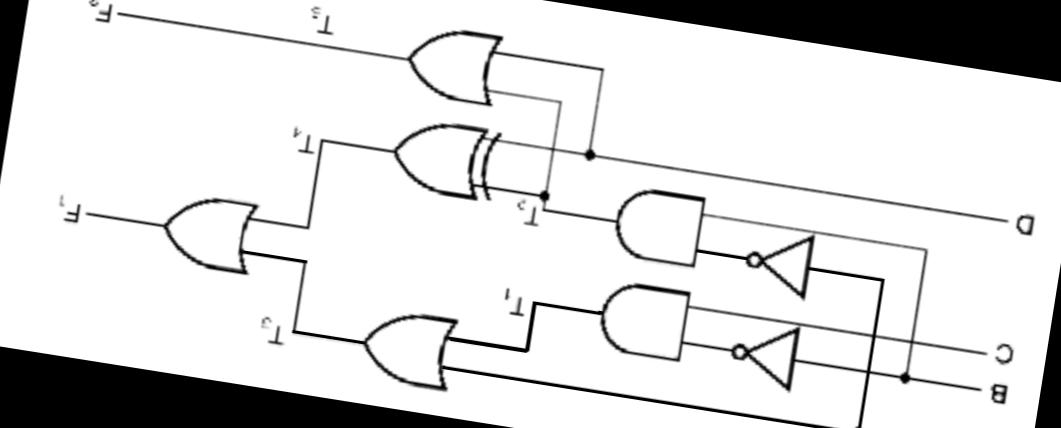and: (594, 166, 717, 278), (582, 270, 702, 370)
not: (718, 310, 816, 404), (730, 216, 824, 310)
or: (345, 290, 473, 412), (144, 168, 268, 288), (394, 10, 513, 114)
xor: (378, 104, 508, 216)
